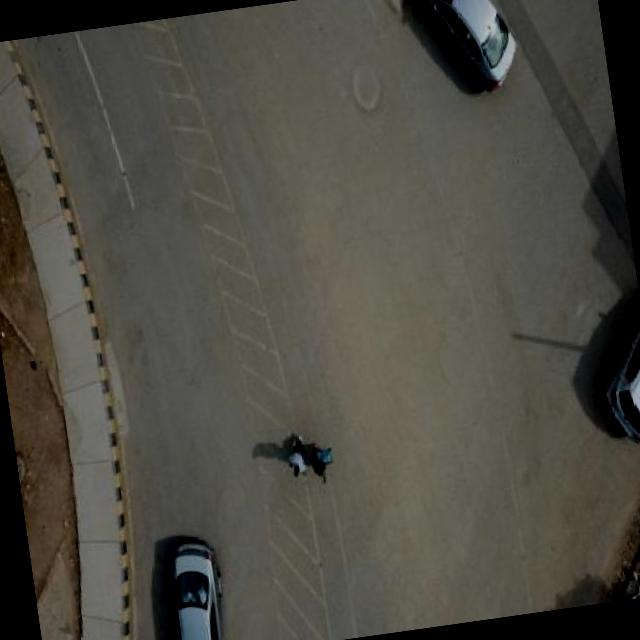Person: (309, 442, 336, 485), (285, 436, 308, 478)
